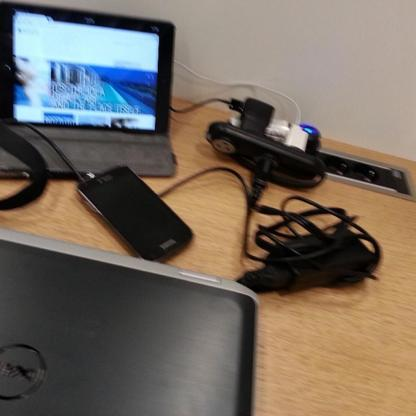board: (0, 227, 260, 415), (2, 0, 174, 178)
